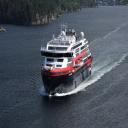cruises: (40, 21, 95, 98)
